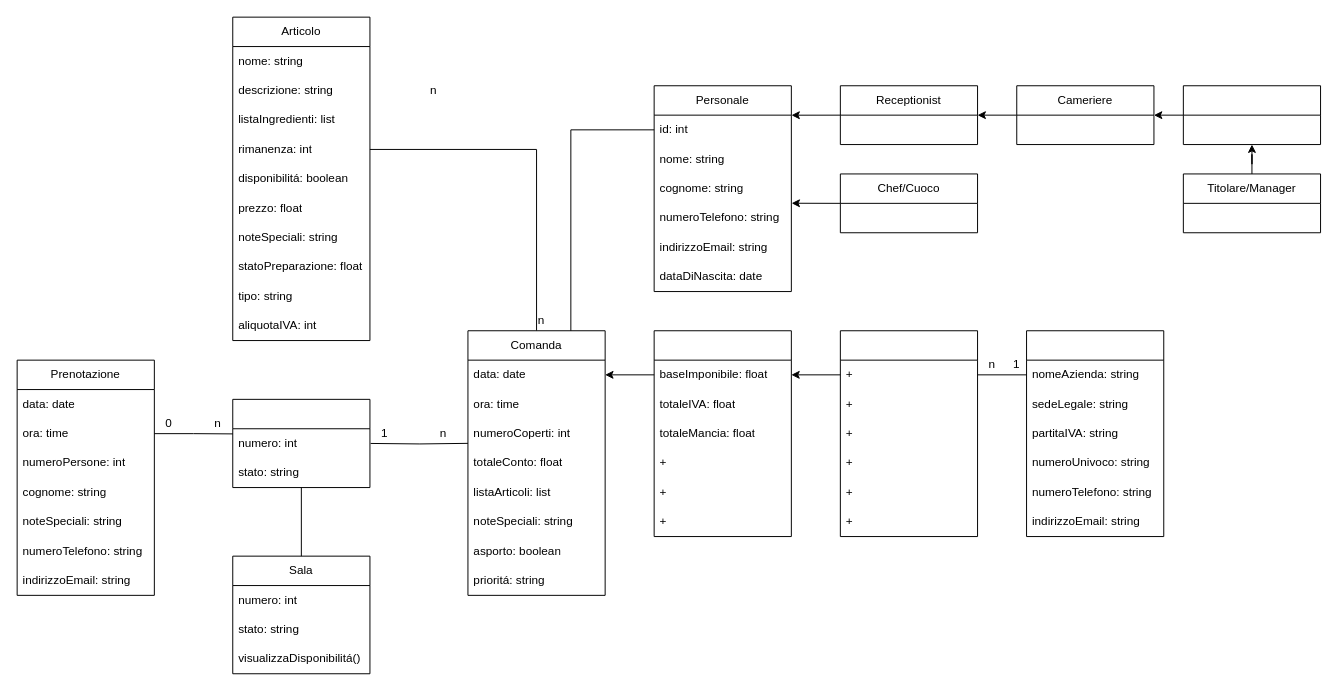
Some shapes in this 1338 by 691 pixel diagram are drawn without their labels. Each missing label, with the box of its shape:
Fattura: (839, 330, 978, 537)
IntestazioneCliente: (1026, 330, 1164, 537)
Maitre: (1182, 85, 1321, 145)
Scontrino: (653, 330, 791, 537)
Tavolo: (232, 398, 370, 488)
